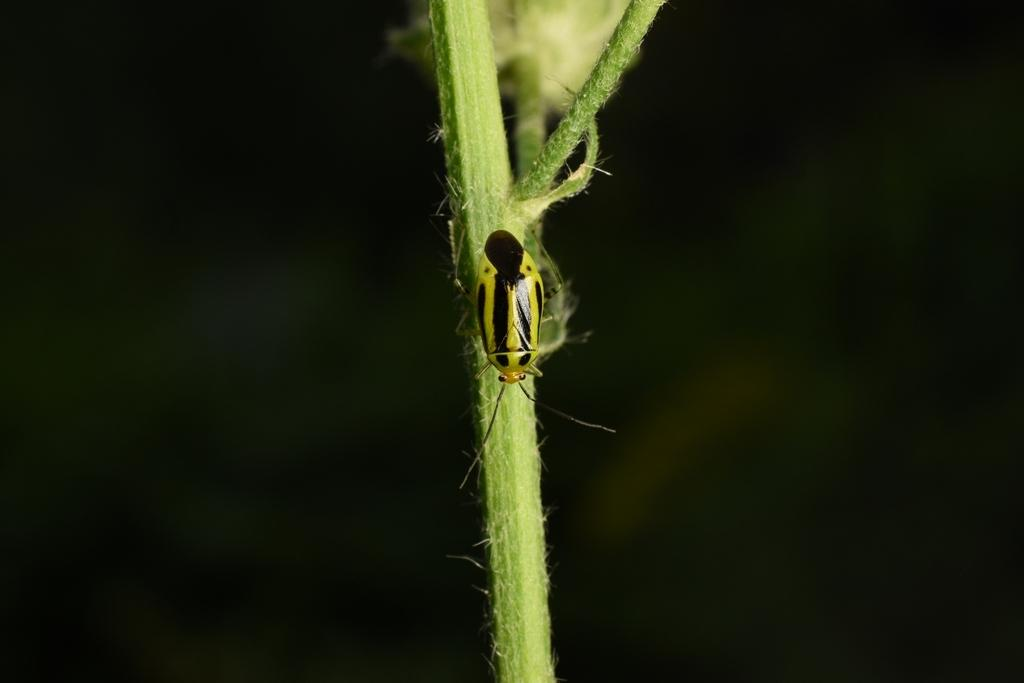plant_bugs: (434, 203, 643, 514)
